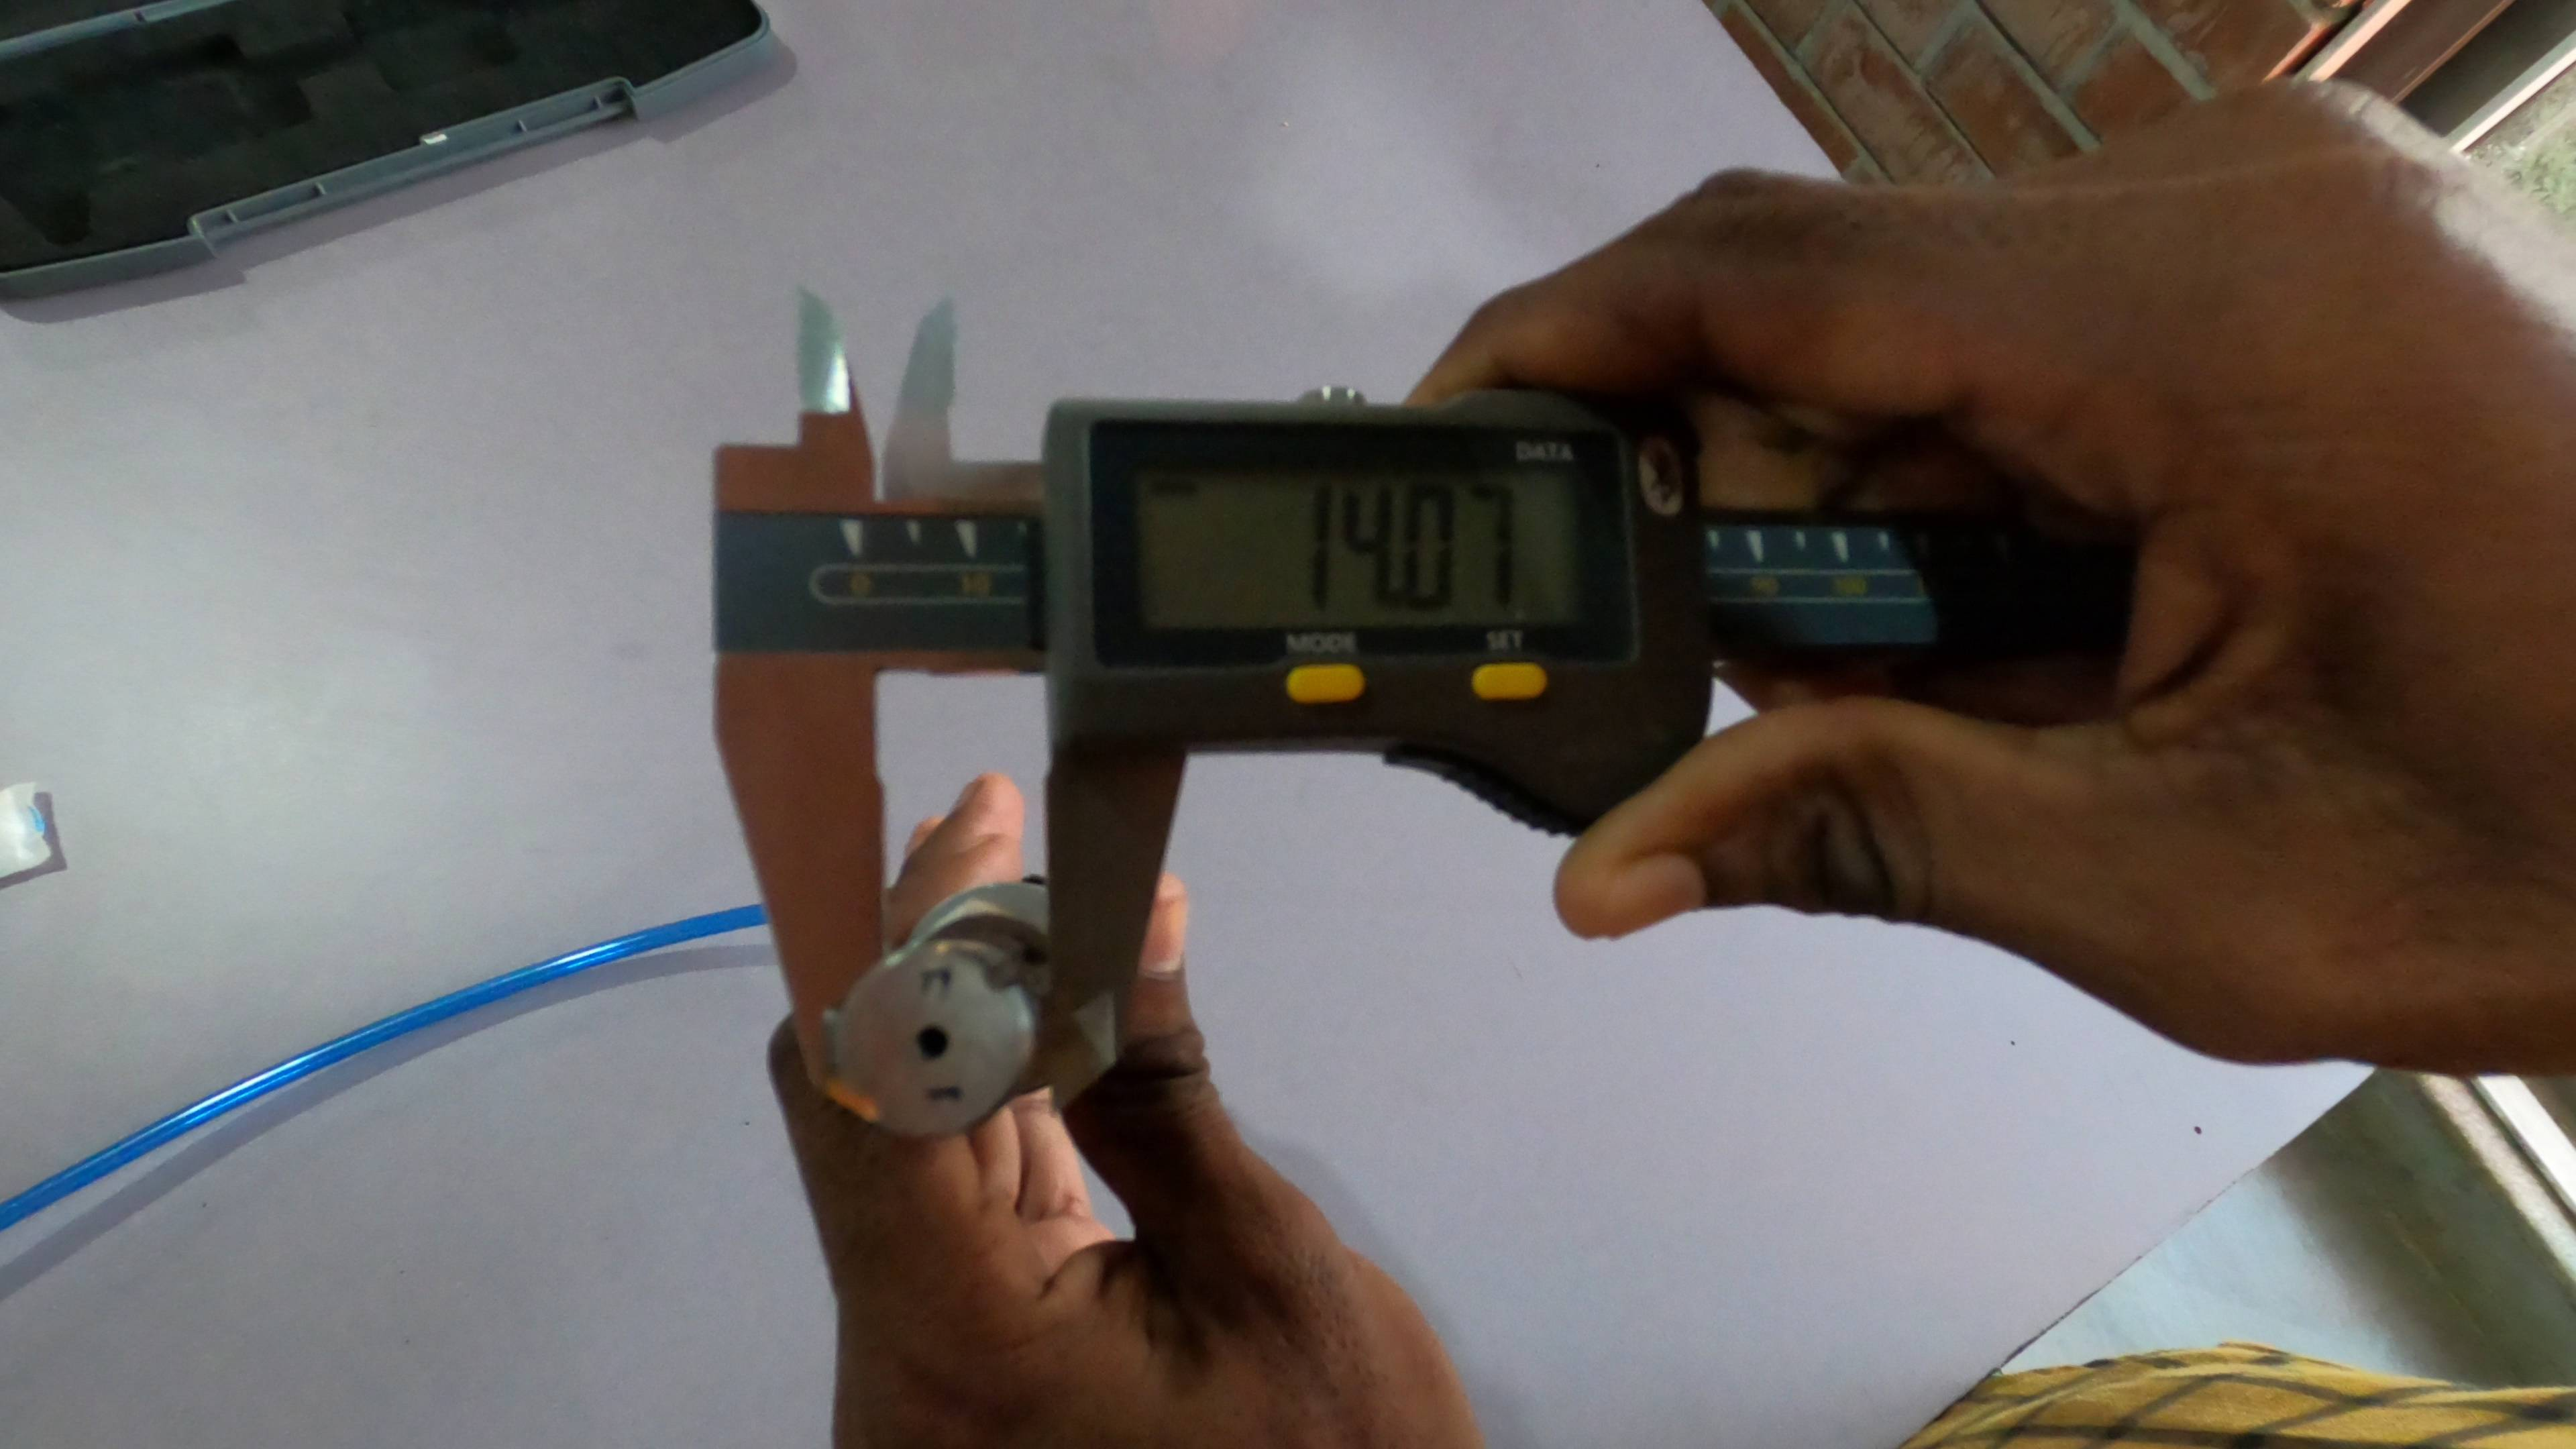vernier_caliper: (711, 280, 2093, 1136)
